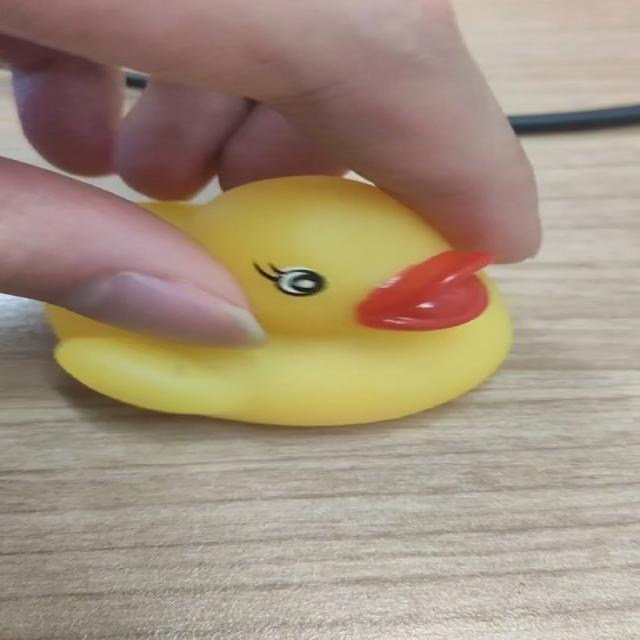rubber-duck: (47, 175, 510, 424)
